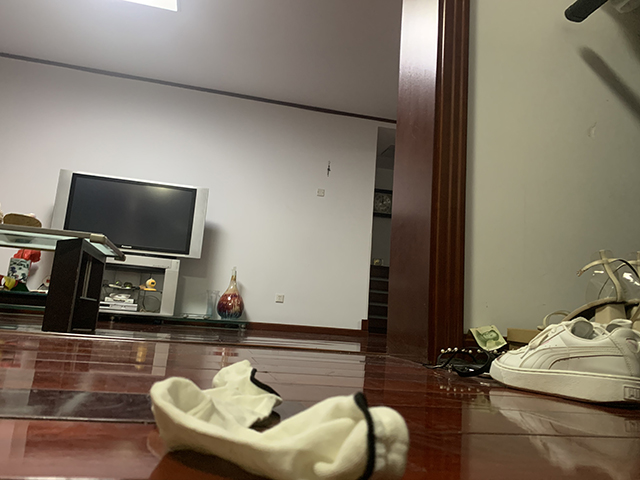cabinet: (99, 255, 250, 331)
socks: (147, 358, 414, 480)
table: (1, 212, 129, 335)
